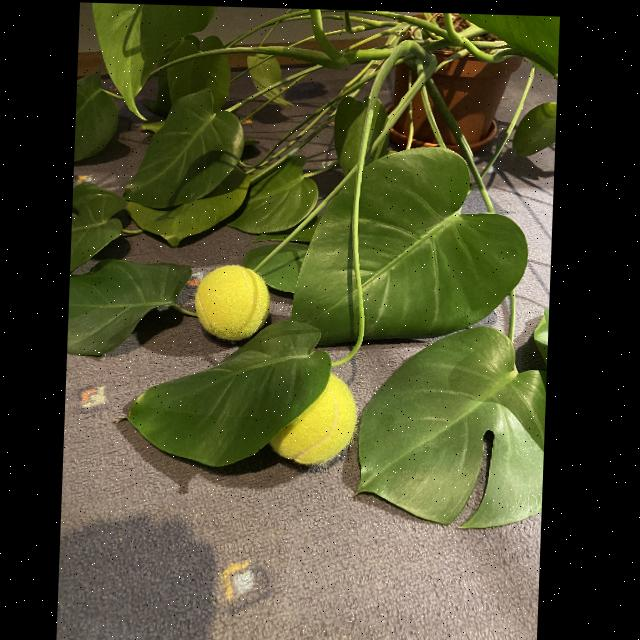Tennisball: (270, 374, 357, 465), (195, 265, 270, 341)
